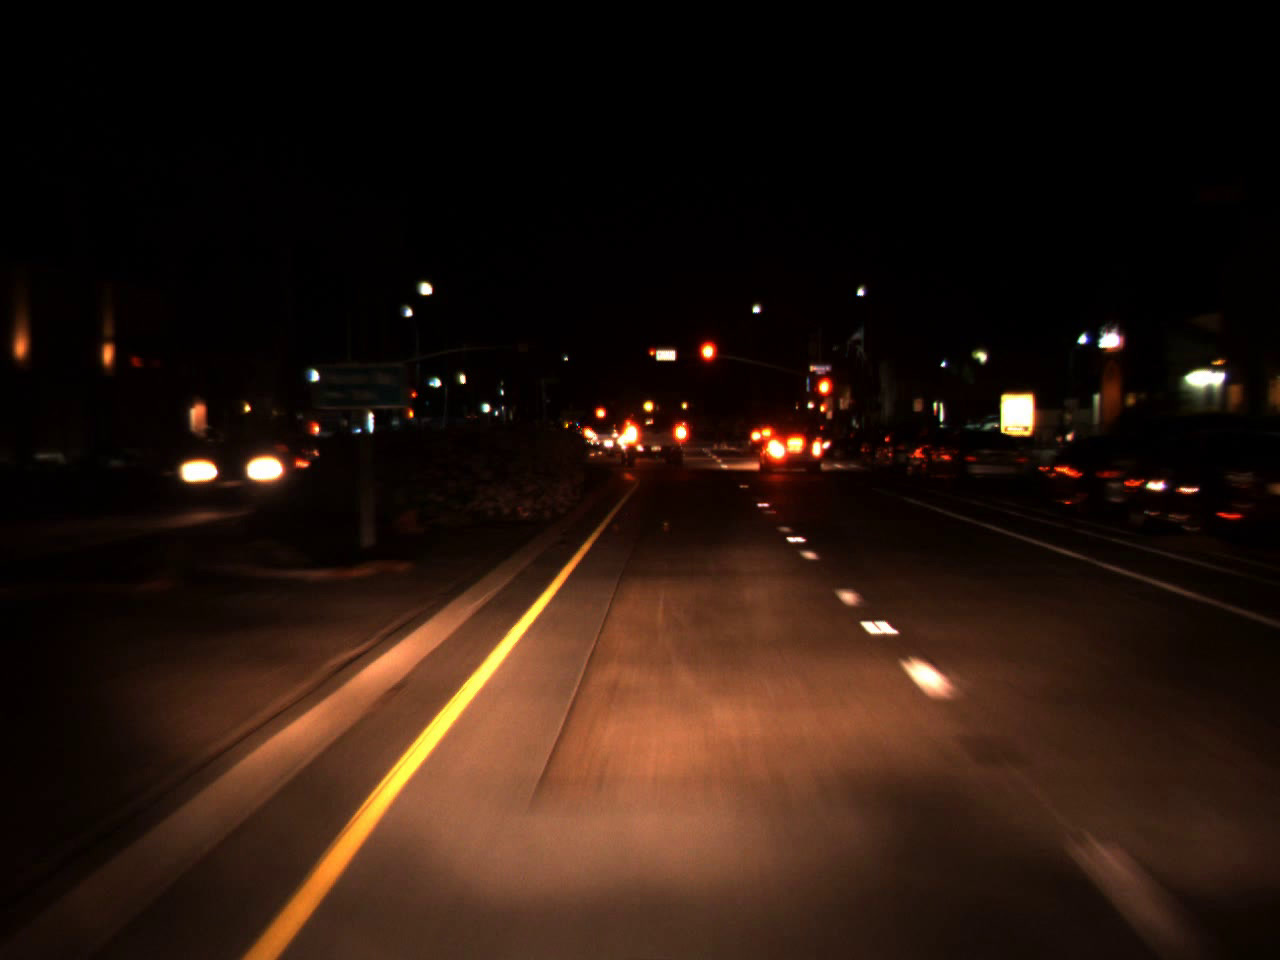stop: (697, 337, 719, 385), (814, 373, 835, 421), (648, 348, 657, 361), (410, 390, 417, 406)
